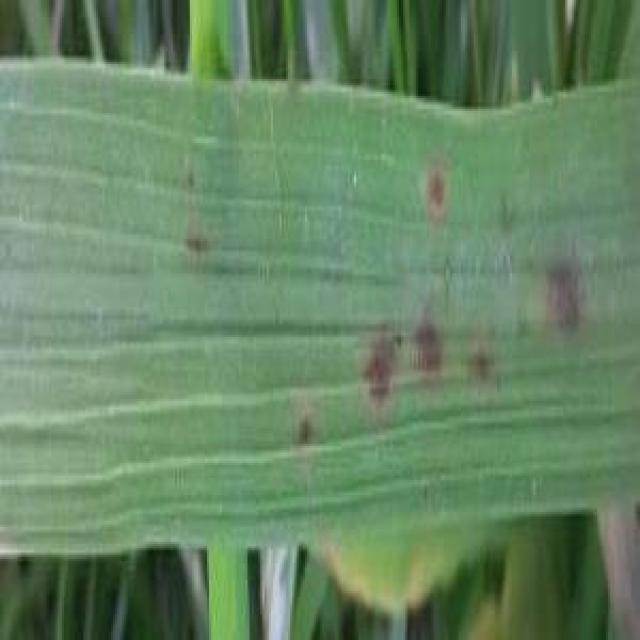Brown_Spot: (529, 243, 594, 343), (404, 307, 451, 401), (347, 328, 402, 408), (459, 332, 509, 418), (411, 154, 459, 227), (174, 223, 238, 276), (291, 405, 340, 473)
